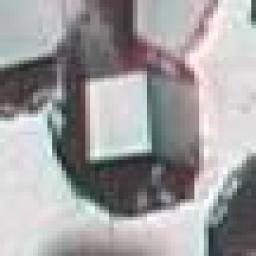crystals: (51, 39, 203, 224)
